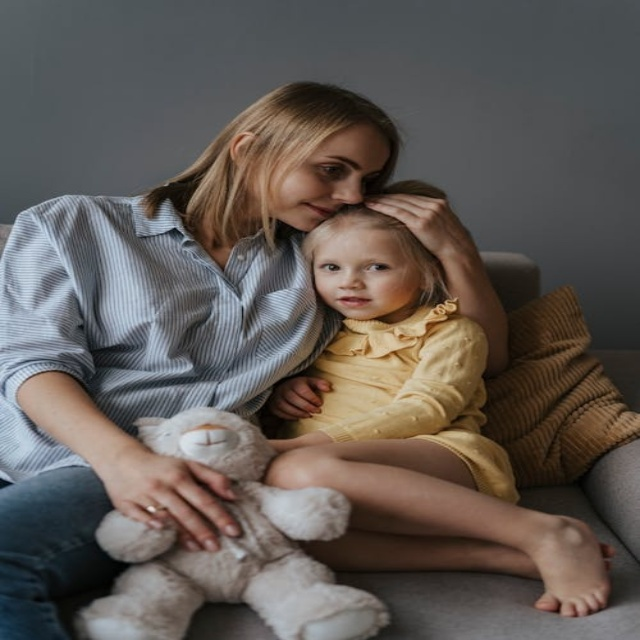Sin_gafas: (310, 152, 376, 189), (310, 252, 394, 279)
Sin_guantes: (102, 451, 246, 553), (364, 186, 483, 259), (268, 373, 335, 424)
Sin_mascara: (287, 196, 340, 227), (326, 292, 381, 321)
